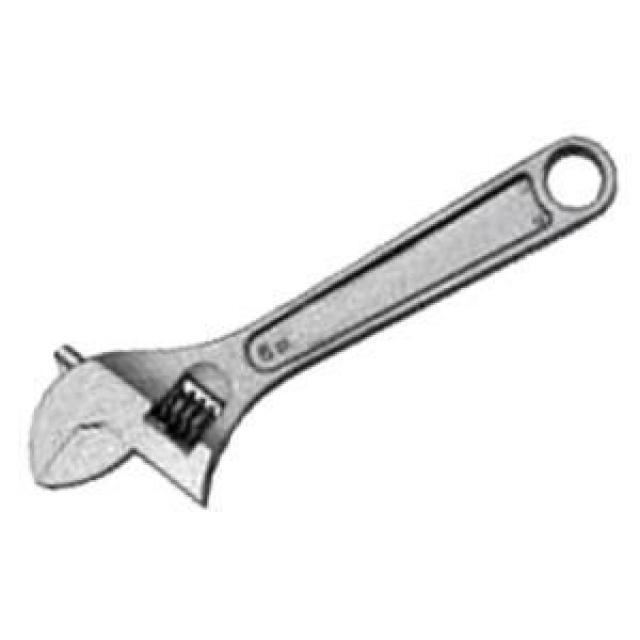wrench: (22, 123, 611, 514)
